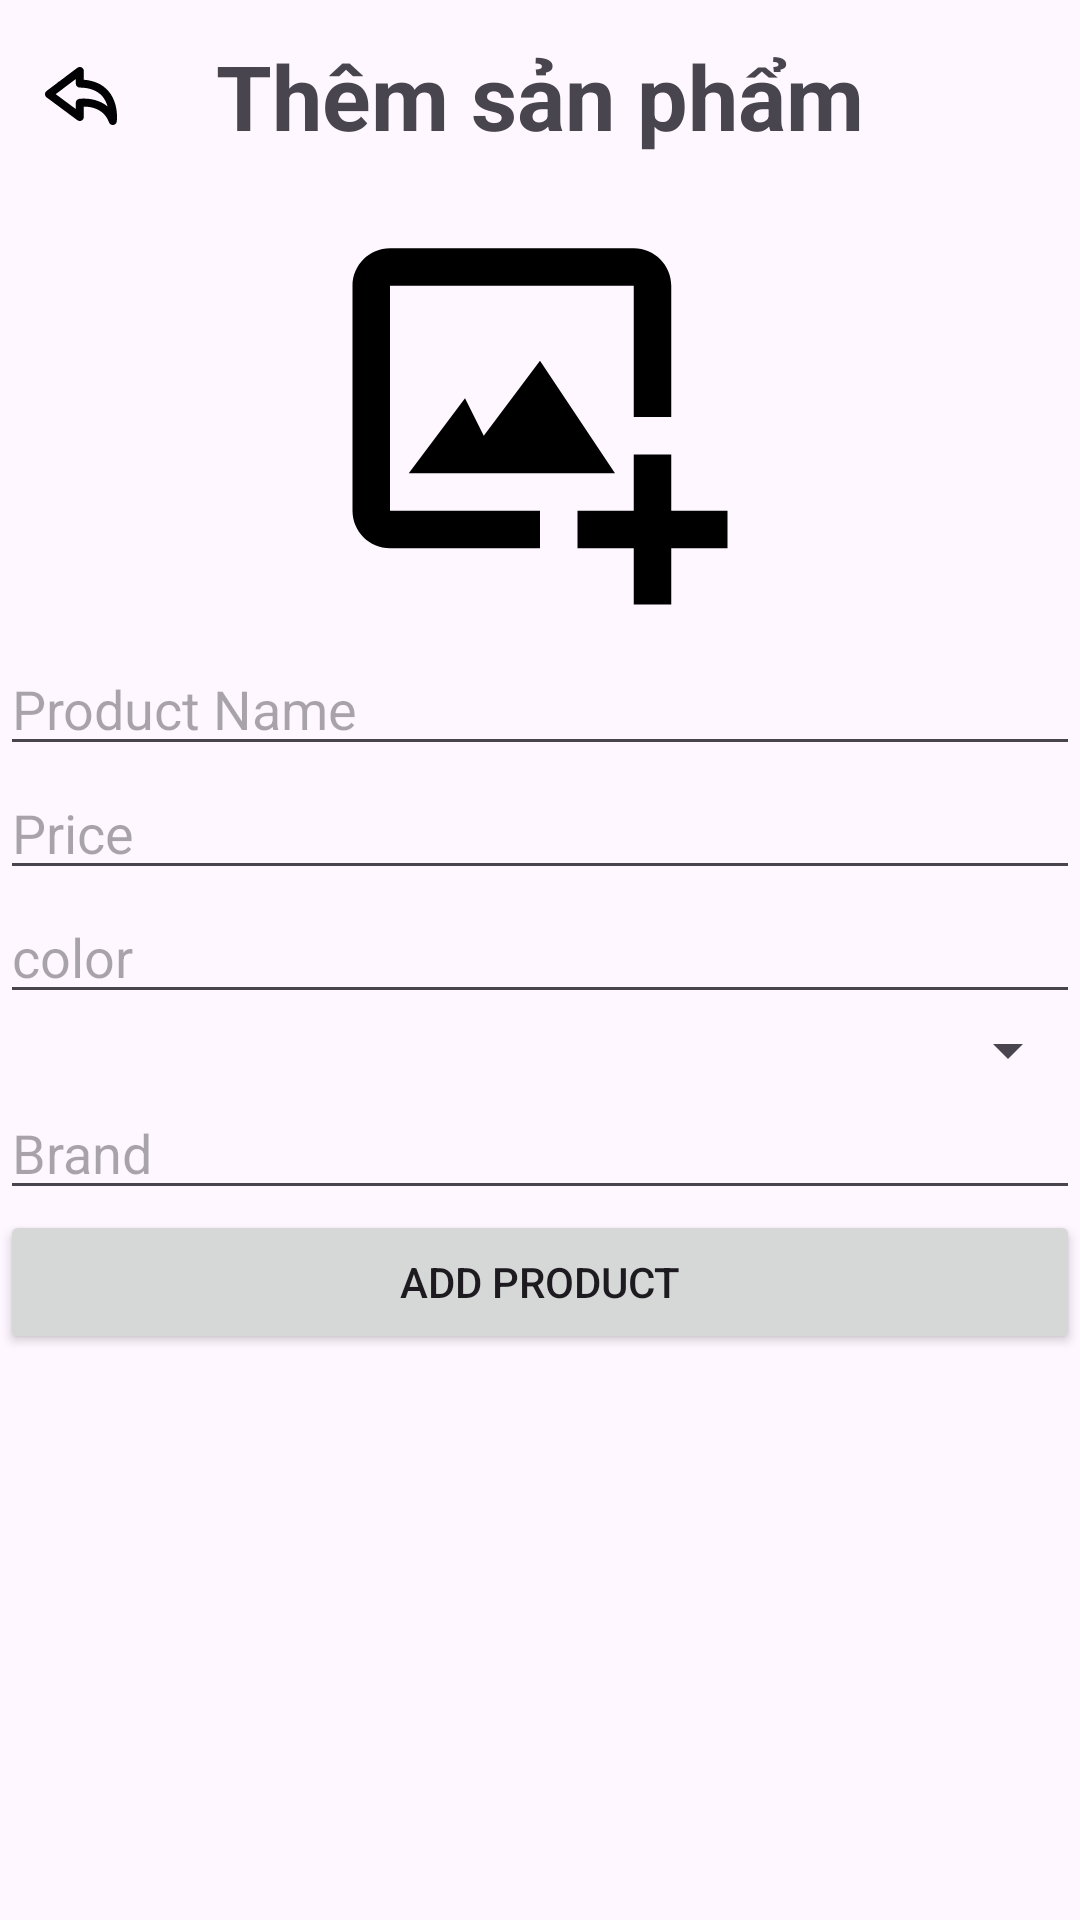

Locate icon controls on the screen. Image size 1080x1920, boxes as (x1, y1, x2, y2).
go back arrow: (45, 67, 117, 125)
